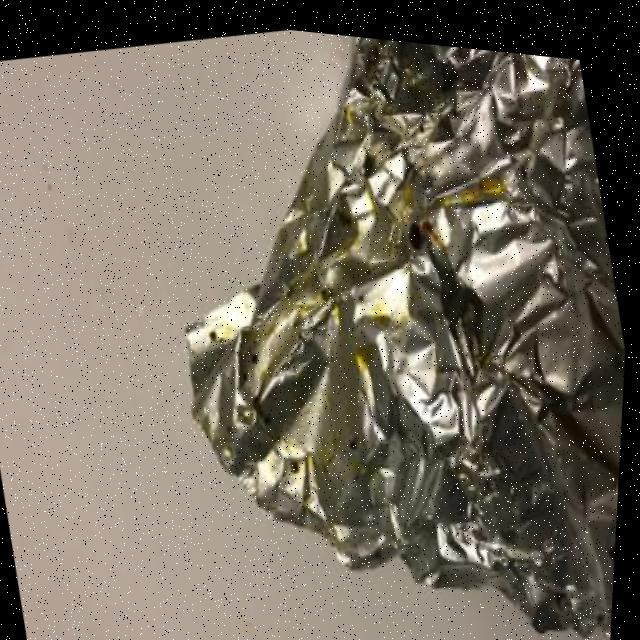metal: (110, 11, 640, 640)
